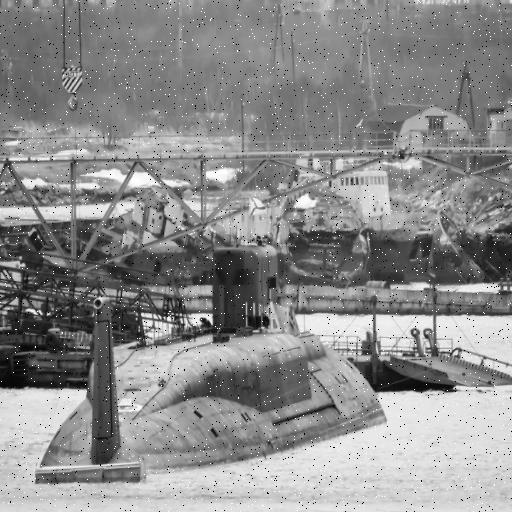submarine: (39, 241, 387, 474)
